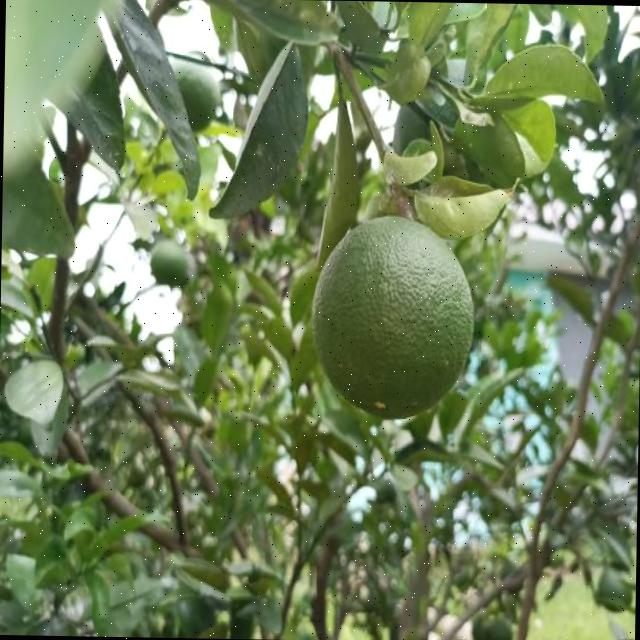Unripe: (310, 212, 475, 421)
